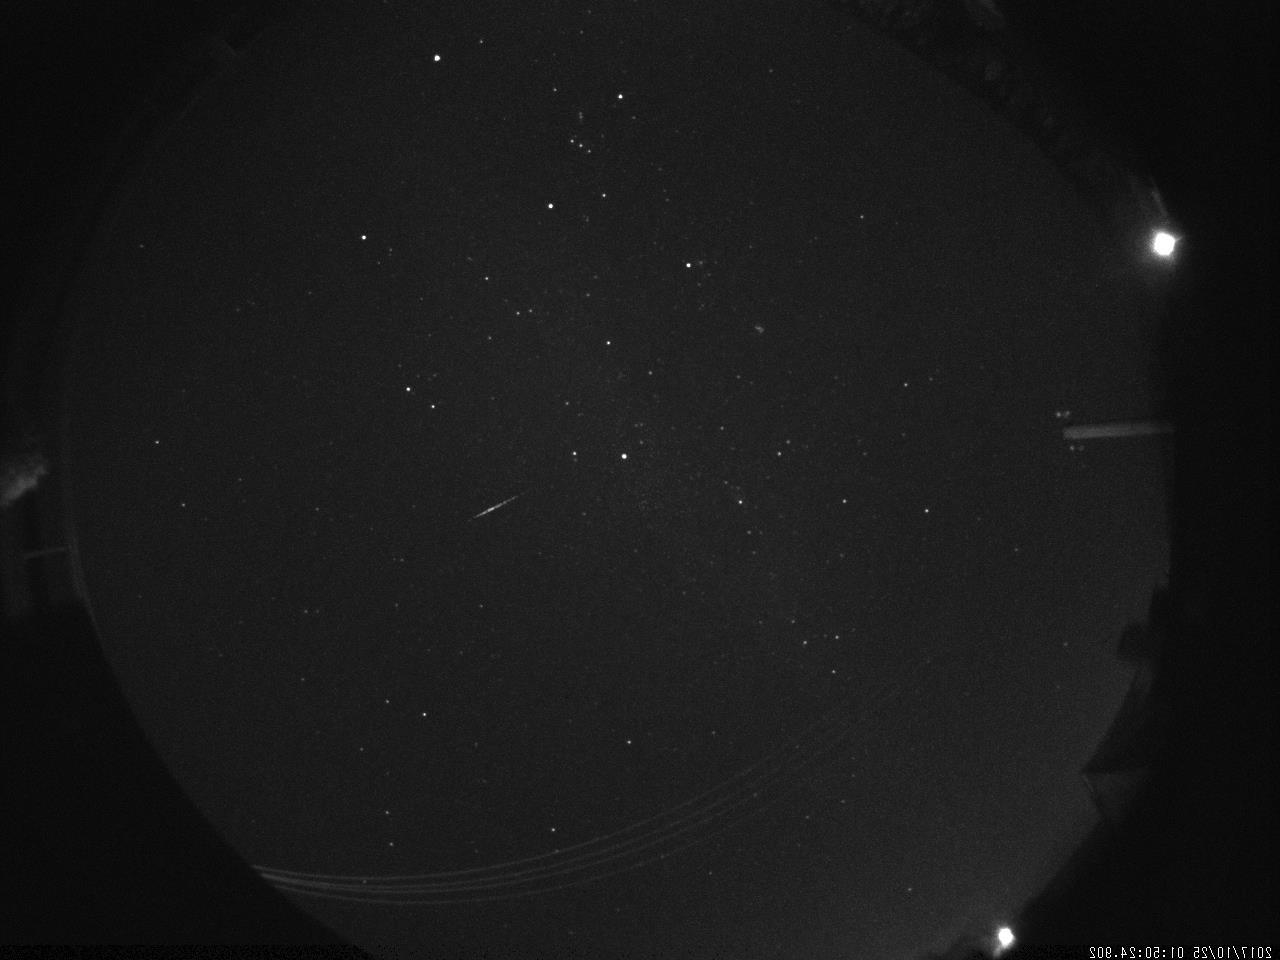meteor: (465, 486, 526, 524)
